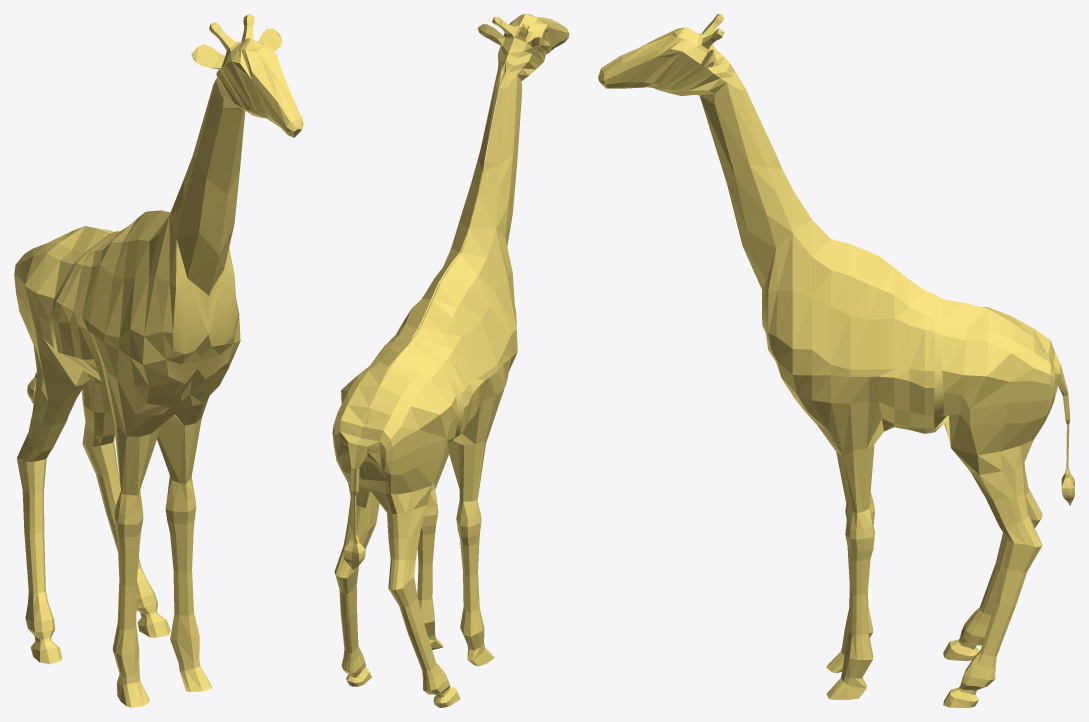
File: giraffeB.gltf
3 views of the same model, side by side, from view 1: azimuth 30°, elevation 25°; view 2: azimuth 150°, elevation 25°; view 3: azimuth 270°, elevation 25° (orthographic). The views are drawn at different scales.
Parts seen in each view (by area): view 1: Box001; view 2: Box001; view 3: Box001.
Boxes of the visible parts, x1,y1,x2,y2 form: Box001: (14, 14, 303, 707); Box001: (332, 14, 569, 707); Box001: (598, 14, 1074, 707).
Bounding box in the file's own units: 28.36 × 150 × 98.05.
